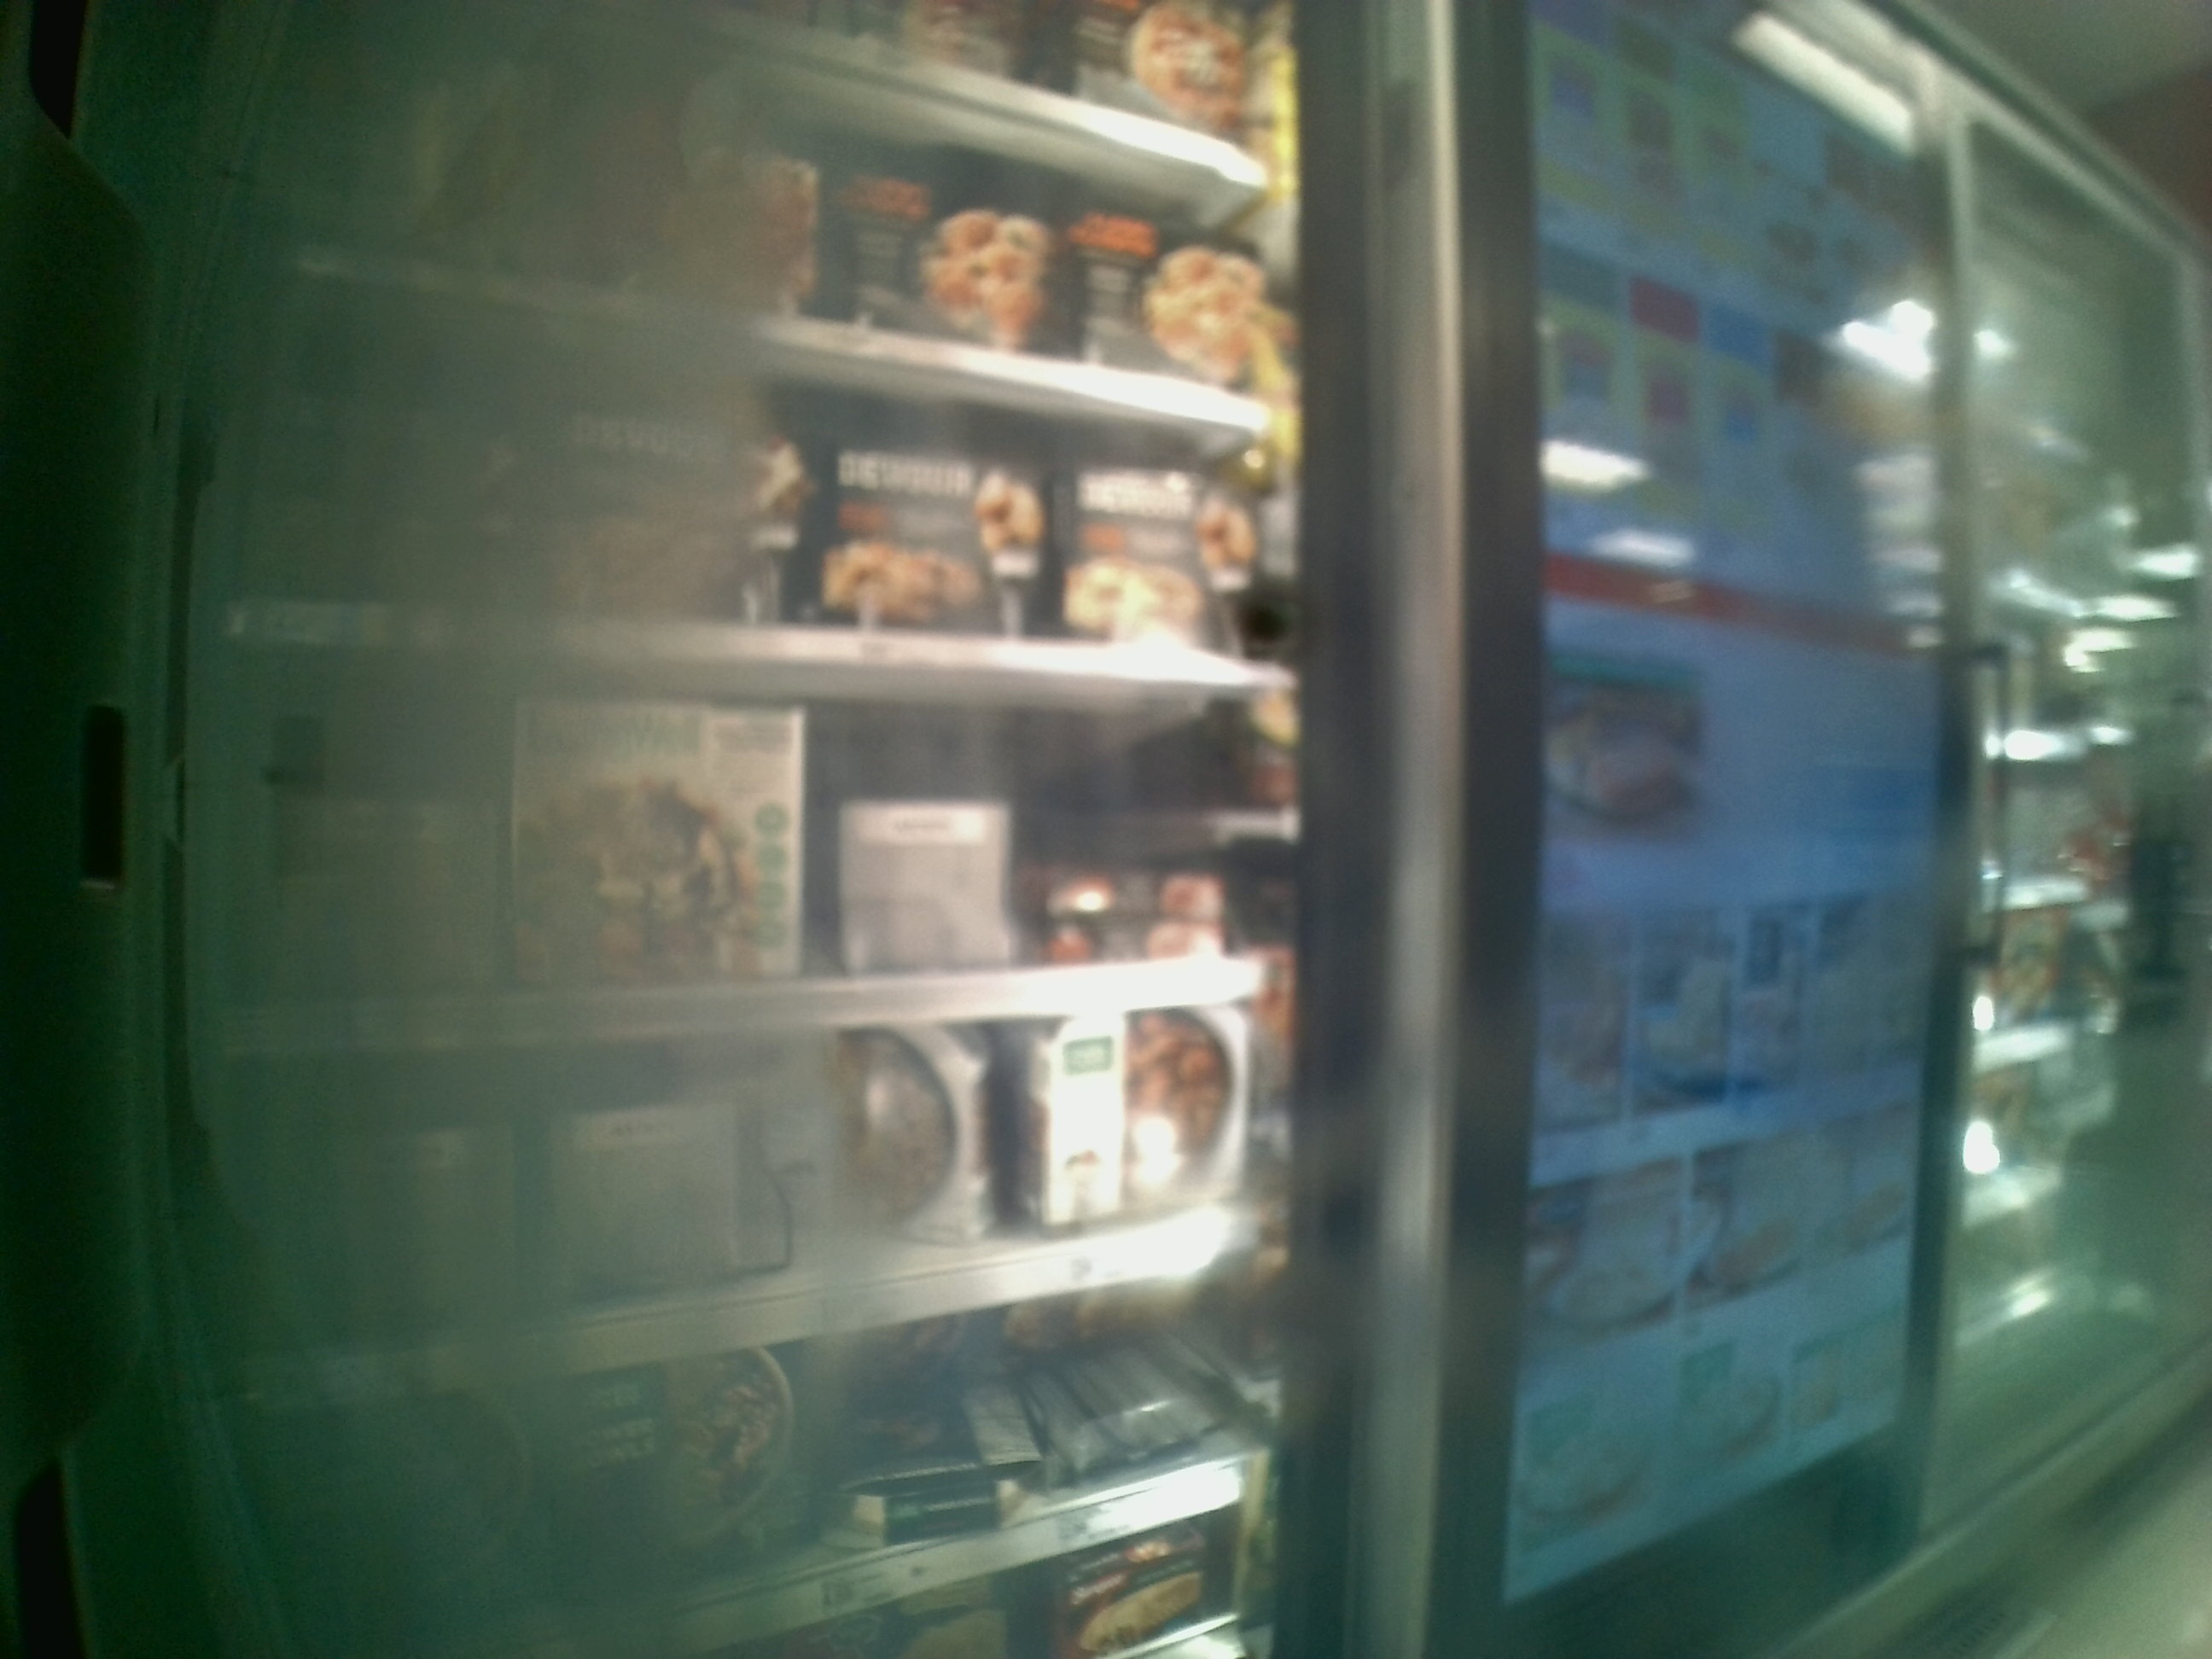shelf: (216, 638, 1289, 1054)
